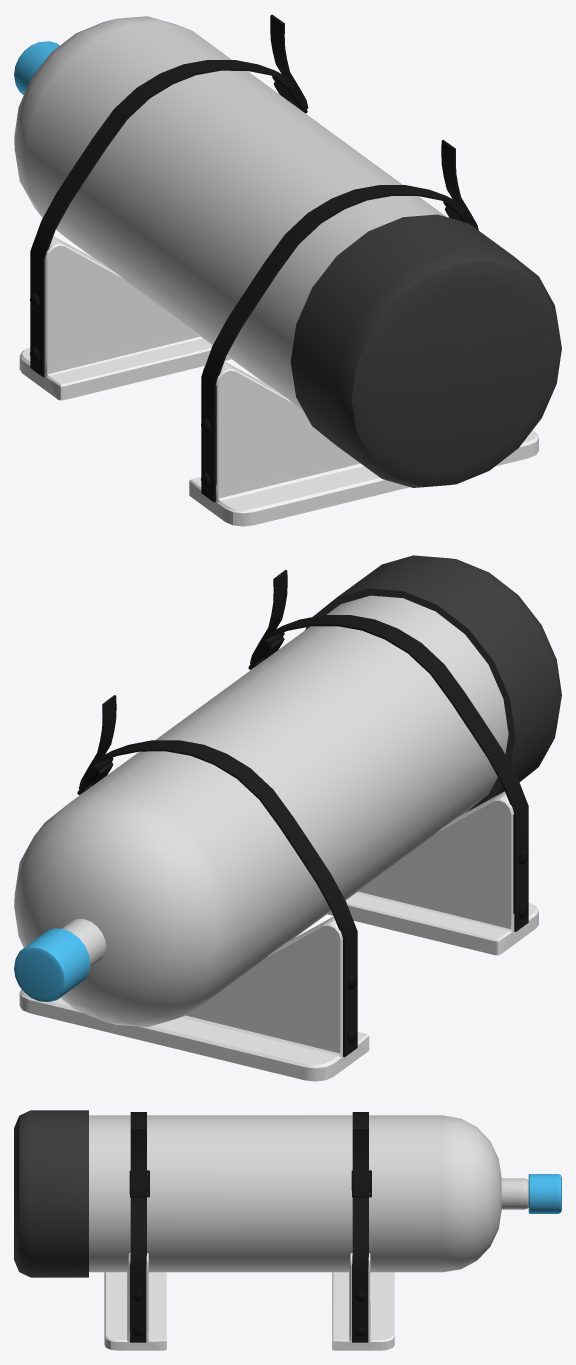
Rendered from ScubaTank.glb.
3 renders of one model, top to bottom at view 1: azimuth 30°, elevation 25°; view 2: azimuth 150°, elevation 25°; view 3: azimuth 270°, elevation 25°, orthographic. The views are drawn at different scales.
Parts seen in each view (by area): view 1: pCylinder24, polySurface53 (×2), polySurface56 (×2), pCylinder25; view 2: pCylinder24, polySurface53 (×2), polySurface56 (×2), pCylinder25; view 3: pCylinder24, polySurface53 (×2), polySurface56 (×2), pCylinder25.
Part boxes in pixels (x1,y1,x2,y2): pCylinder24: [14, 16, 561, 487]; polySurface53 (×2): [19, 236, 538, 526]; polySurface56 (×2): [30, 14, 478, 502]; pCylinder25: [14, 41, 59, 94]; pCylinder24: [14, 555, 561, 1027]; polySurface53 (×2): [19, 791, 538, 1081]; polySurface56 (×2): [78, 569, 528, 1057]; pCylinder25: [14, 928, 90, 1002]; pCylinder24: [14, 1110, 528, 1277]; polySurface53 (×2): [104, 1253, 394, 1350]; polySurface56 (×2): [130, 1112, 368, 1342]; pCylinder25: [528, 1174, 561, 1213].
Bounding box in the file's own units: 32.94 × 29.91 × 74.46.
